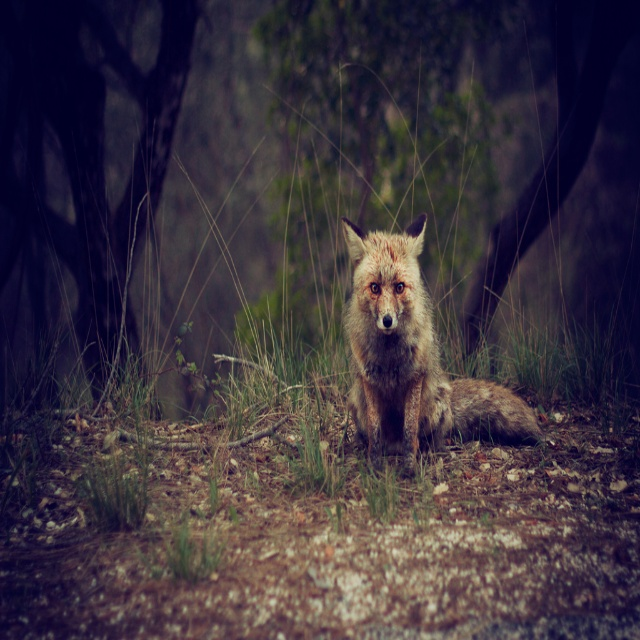Fox: (344, 211, 542, 480)
